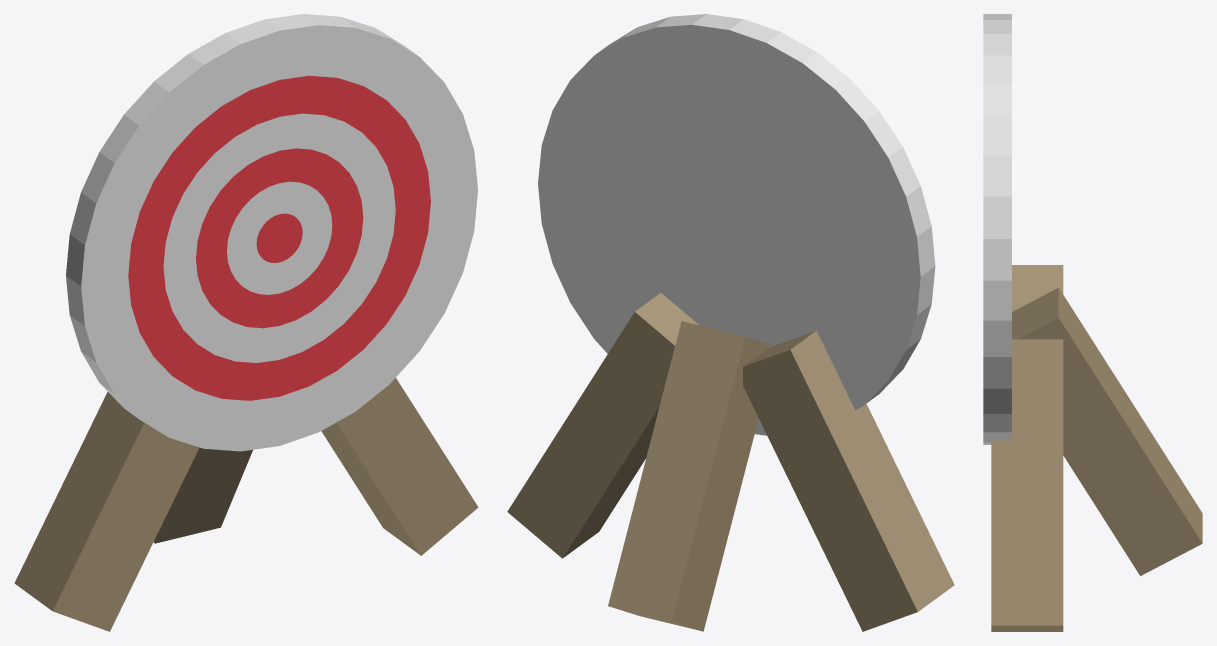
File: target.fbx
3 renders of one model, left to right at view 1: azimuth 30°, elevation 25°; view 2: azimuth 150°, elevation 25°; view 3: azimuth 270°, elevation 25°, orthographic. The views are drawn at different scales.
Visible parts, largest first — view 1: target, legs; view 2: target, legs; view 3: legs, target.
Boxes of the visible parts, x1,y1,x2,y2 form: target: (66,14,477,451); legs: (14,378,478,631); target: (538,14,935,435); legs: (507,293,954,631); legs: (991,265,1202,631); target: (983,14,1011,444).
Size of the model in its own units: 322 by 407 by 152.
